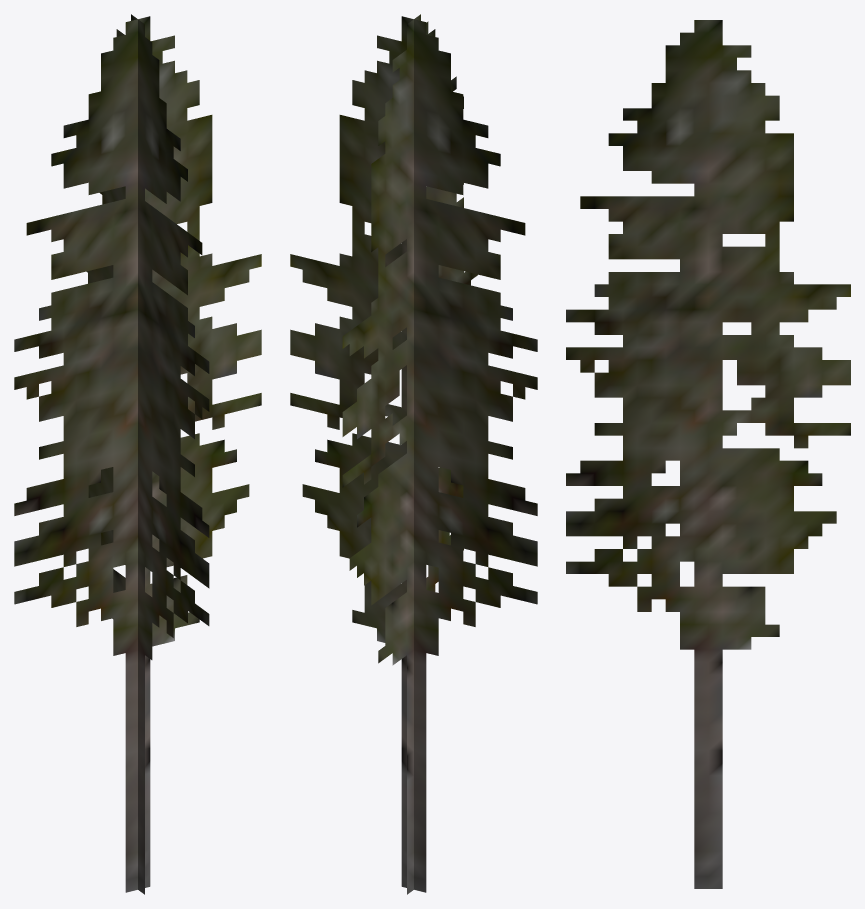
File: abeto.glb
3 views of the same model, side by side, from view 1: azimuth 30°, elevation 25°; view 2: azimuth 150°, elevation 25°; view 3: azimuth 270°, elevation 25° (orthographic).
Visible parts, largest first — view 1: sprite_0; view 2: sprite_0; view 3: sprite_0.
Boxes of the visible parts, x1,y1,x2,y2 form: sprite_0: [14, 14, 261, 894]; sprite_0: [290, 14, 537, 894]; sprite_0: [566, 20, 850, 888].
Size of the model in its own units: 0.2848 by 0.9583 by 0.2848.
